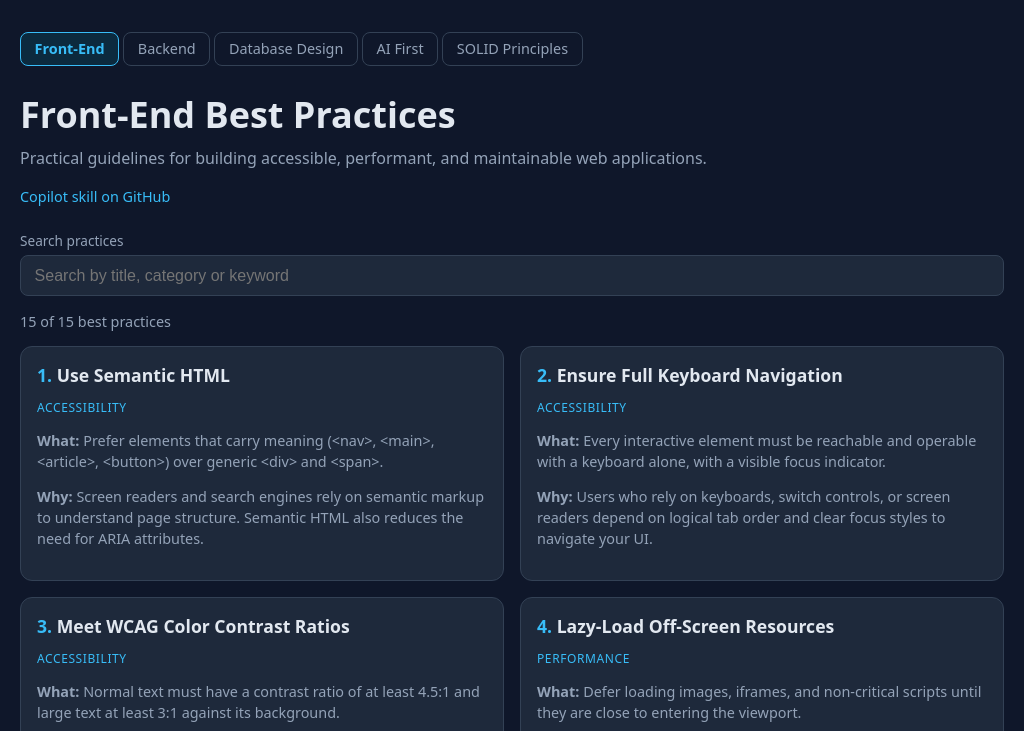
Test: BestPracticesPage › switches to the AI first section when its tab is clicked
Click the link "AI First" at (400, 49), box [362, 32, 438, 66]
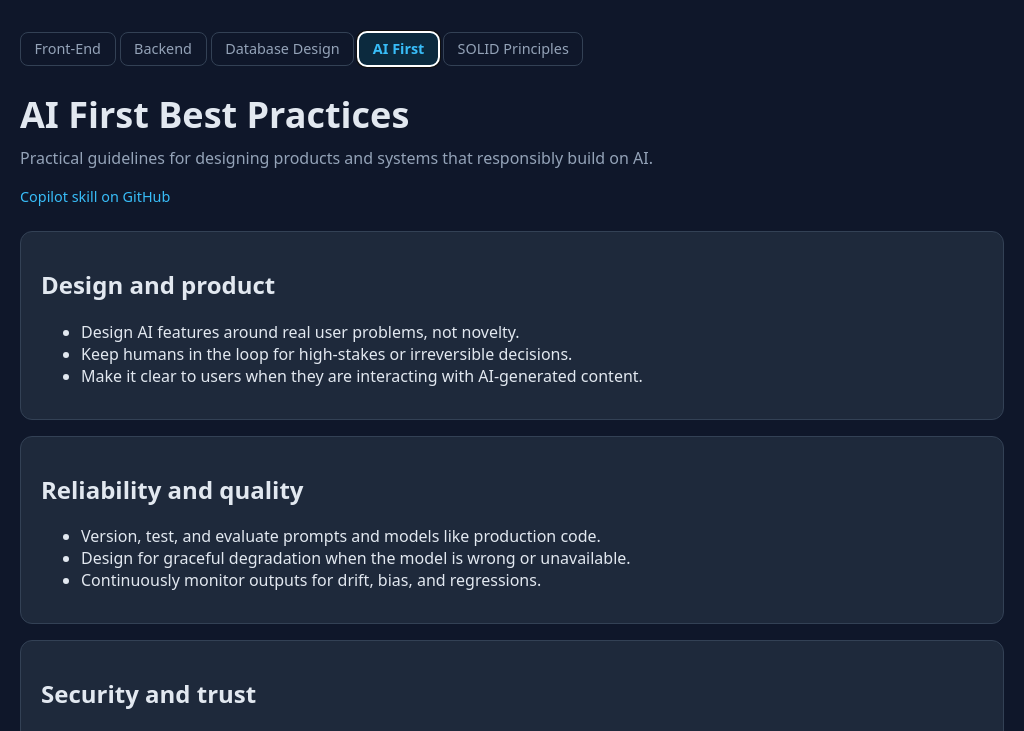
Check: the heading "AI First Best Practices" is shown, box [20, 90, 409, 139]
